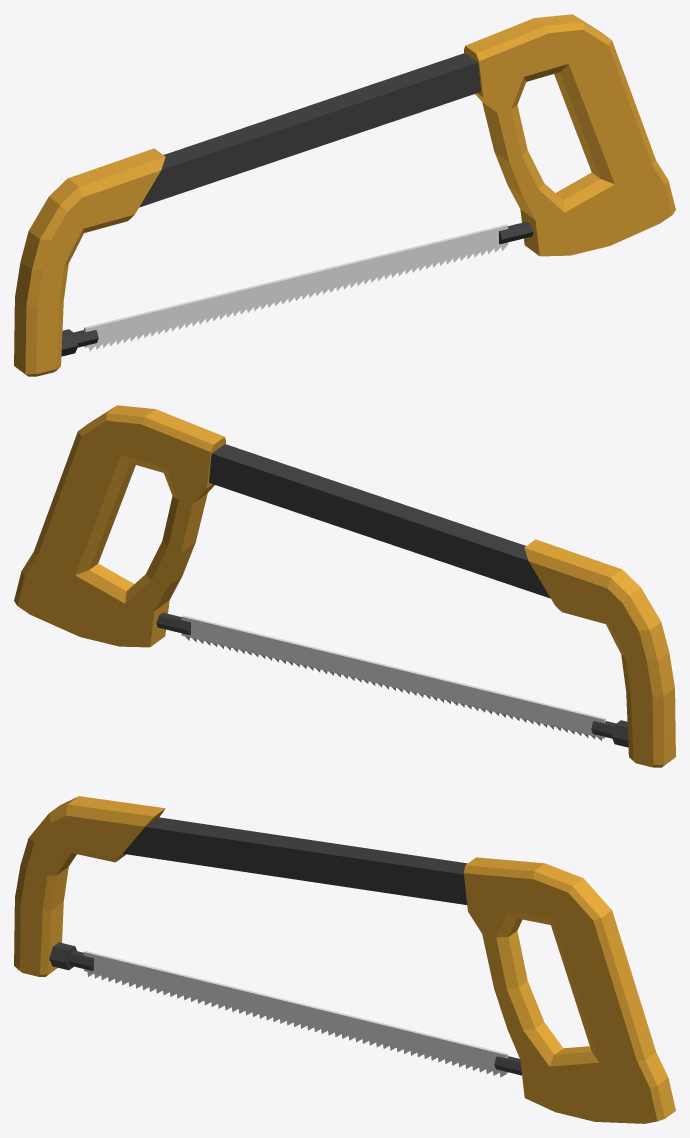
The model's file is SM_Saw.fbx.
The picture shows the model from 3 angles, top to bottom: view 1: azimuth 30°, elevation 25°; view 2: azimuth 150°, elevation 25°; view 3: azimuth 330°, elevation 25°; orthographic projection.
Parts seen in each view (by area): view 1: Cube.002, Cube.001, Cube.003, Cube; view 2: Cube.002, Cube.001, Cube.003, Cube; view 3: Cube.002, Cube.001, Cube.003, Cube, Cylinder.002.
Part boxes in pixels (x1=…): Cube.002: x1=464, y1=14, x2=675, y2=256; Cube.001: x1=139, y1=53, x2=480, y2=207; Cube.003: x1=14, y1=148, x2=165, y2=376; Cube: x1=84, y1=224, x2=508, y2=351; Cube.002: x1=14, y1=405, x2=225, y2=647; Cube.001: x1=209, y1=444, x2=550, y2=598; Cube.003: x1=524, y1=539, x2=675, y2=767; Cube: x1=181, y1=615, x2=605, y2=740; Cube.002: x1=464, y1=857, x2=675, y2=1123; Cube.001: x1=123, y1=817, x2=467, y2=904; Cube.003: x1=14, y1=796, x2=165, y2=976; Cube: x1=84, y1=951, x2=508, y2=1077; Cylinder.002: x1=49, y1=942, x2=76, y2=970.
Bounding box in the file's own units: 940 × 323 × 41.44.
